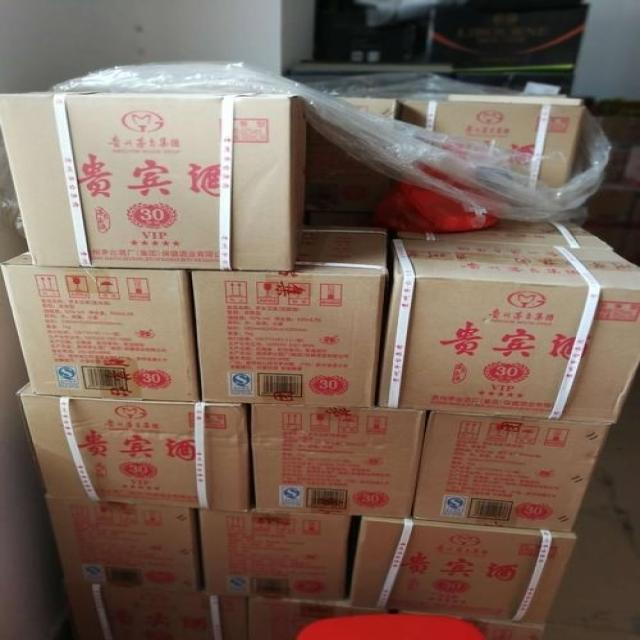box: (1, 92, 309, 272), (381, 237, 639, 425), (189, 208, 392, 406), (16, 378, 248, 513), (0, 247, 199, 400), (412, 410, 611, 534), (351, 517, 577, 622), (245, 401, 428, 518), (424, 96, 587, 194), (193, 506, 355, 597), (45, 496, 199, 590), (307, 93, 401, 211), (70, 582, 249, 639), (400, 214, 616, 251), (243, 594, 390, 639), (393, 607, 545, 639), (583, 181, 639, 222), (591, 99, 639, 145), (398, 98, 440, 130), (607, 144, 639, 185)
